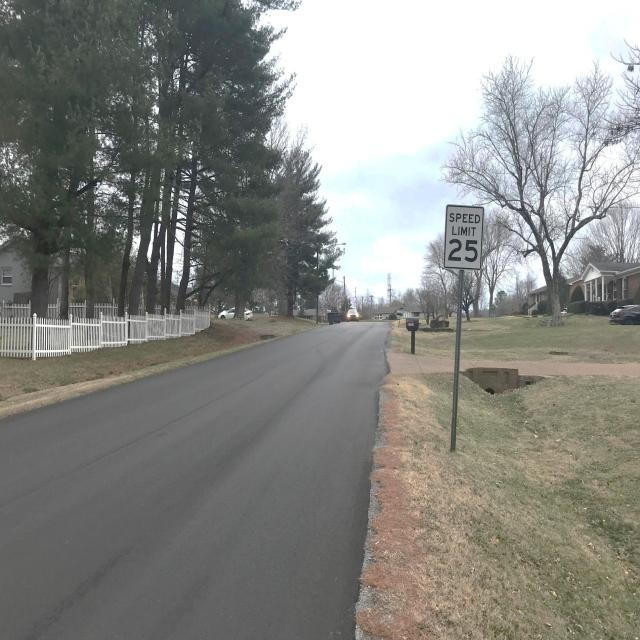speedLimit25: (444, 192, 482, 274)
